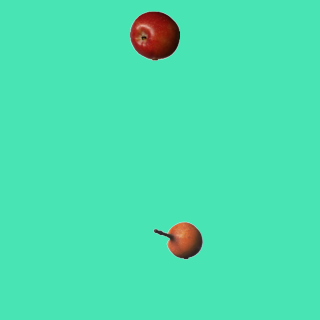Apple Braeburn: (129, 10, 179, 60)
Granadilla: (152, 215, 202, 265)
